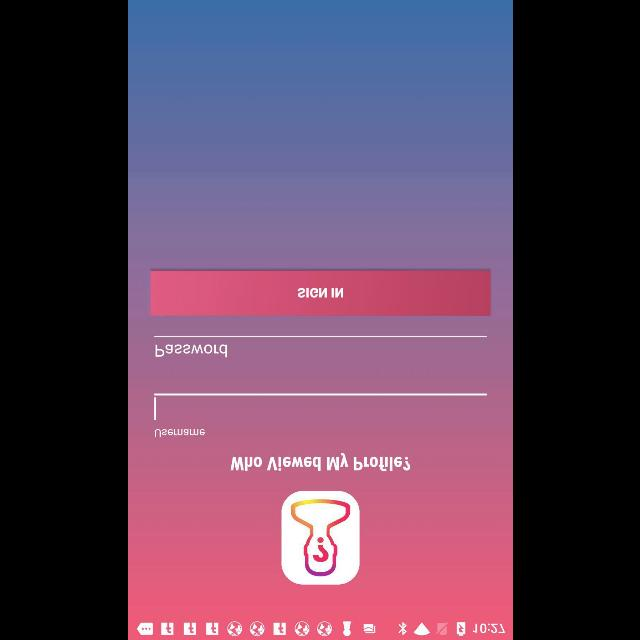image: (281, 491, 359, 585)
input: (154, 393, 486, 437), (154, 336, 486, 358)
text: (230, 452, 410, 472), (155, 344, 227, 358), (154, 428, 204, 438)
textbutton: (150, 270, 490, 316)
uppertaskbar: (128, 617, 512, 639)
